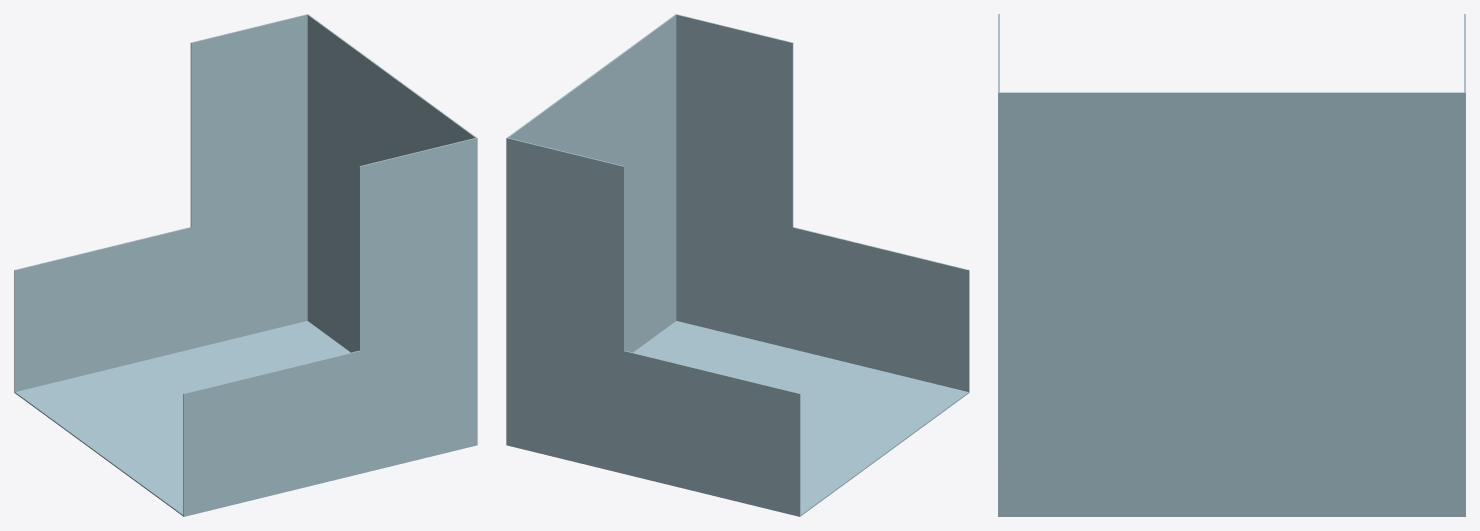
3 views of the same model, side by side, from view 1: azimuth 30°, elevation 25°; view 2: azimuth 150°, elevation 25°; view 3: azimuth 270°, elevation 25° (orthographic). The views are drawn at different scales.
Visible parts, largest first — view 1: L2-C17; view 2: L2-C17; view 3: L2-C17.
Part boxes in pixels (bbox=[...]): L2-C17: bbox=[14, 14, 477, 516]; L2-C17: bbox=[506, 14, 969, 516]; L2-C17: bbox=[998, 14, 1465, 516].
Size of the model in its own units: 0.5 by 0.5 by 0.5.
